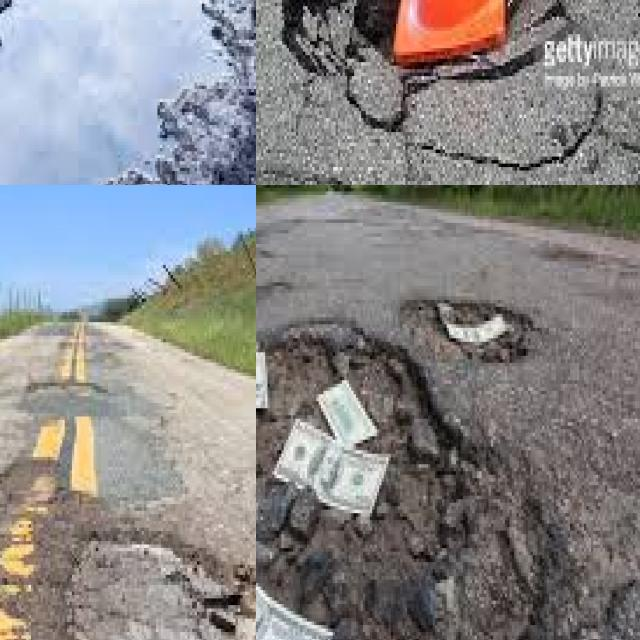Pothole: (256, 321, 535, 640), (282, 0, 568, 132), (31, 521, 256, 640), (398, 300, 533, 370)
